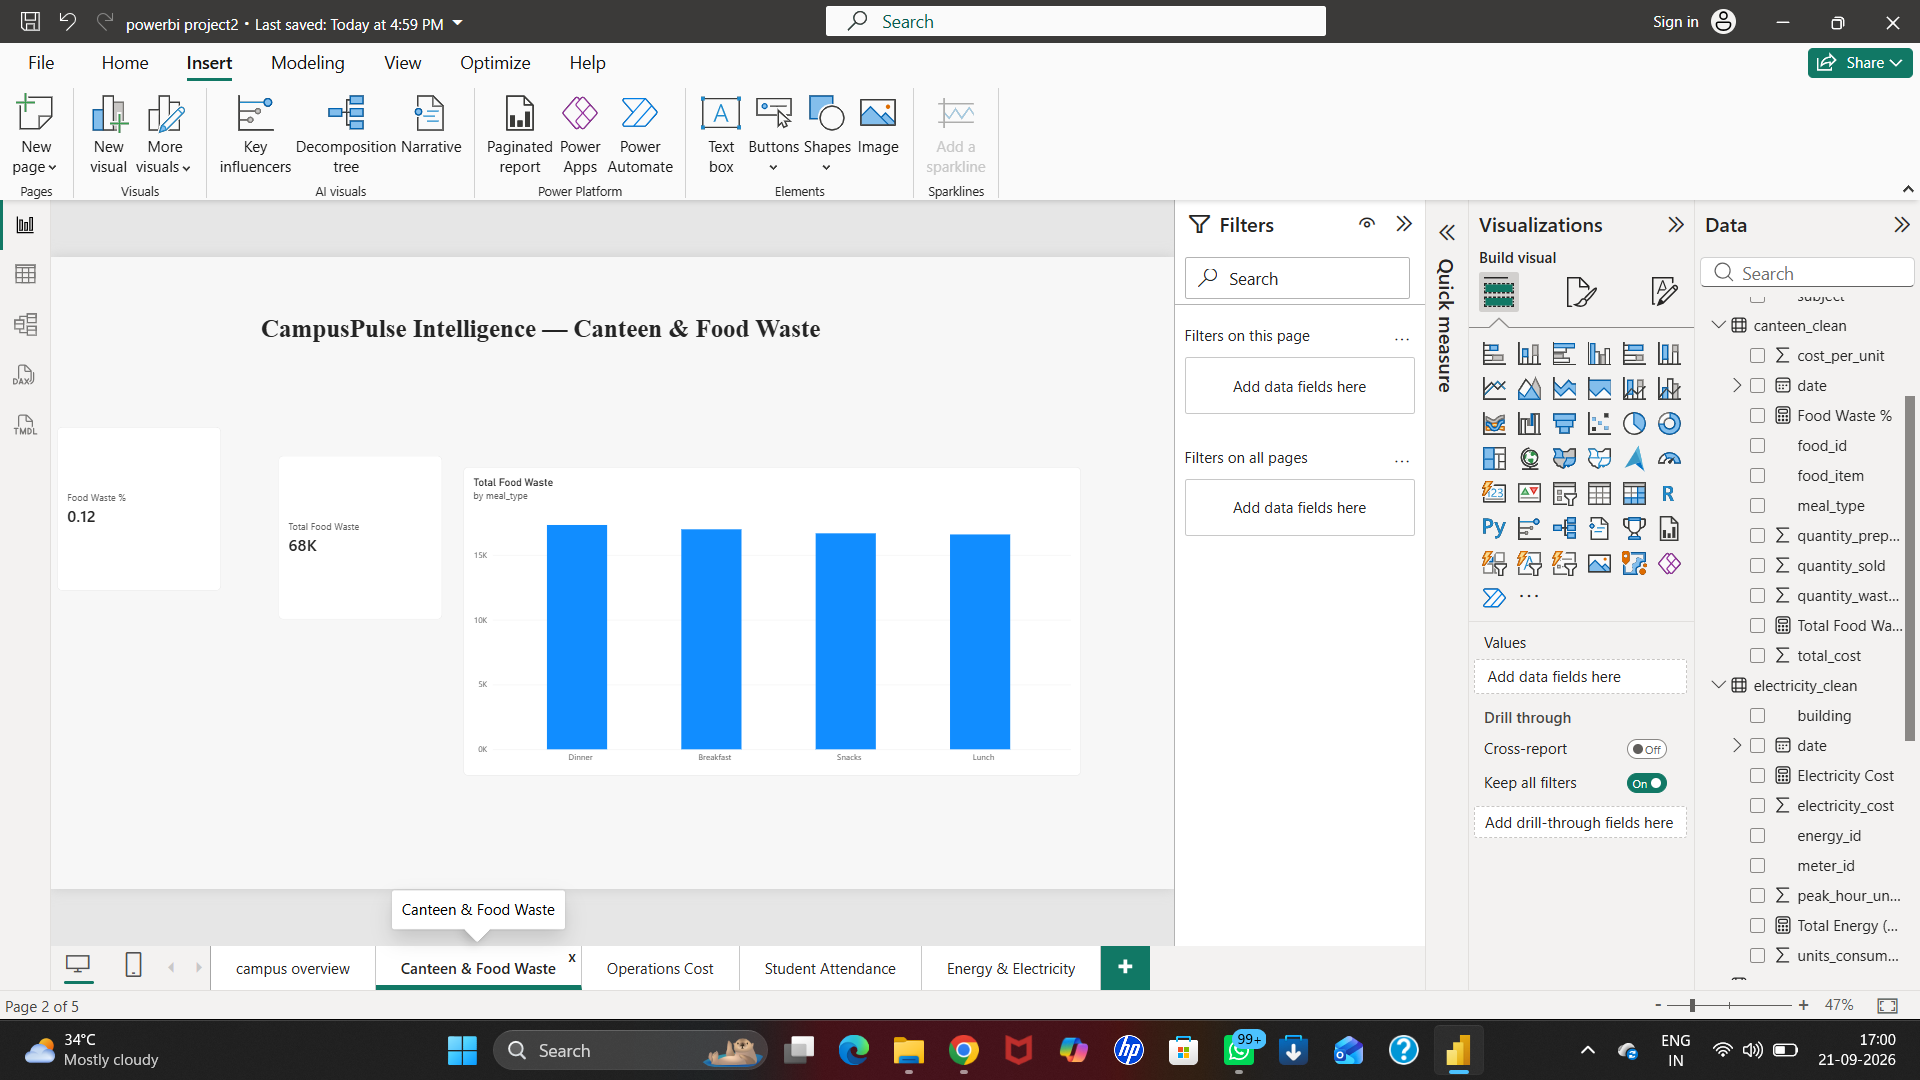

Layout of this report page (visuals, bound fields, positions):
{"tool":"powerbi","page":{"name":"Canteen & Food Waste","canvas":[1920,1080],"ordinal":1},"visuals":[{"type":"cardVisual","fields":{"Data":["canteen_clean.Total Food Waste"]},"box":[389.1,340,280,280],"z":0},{"type":"cardVisual","fields":{"Data":["canteen_clean.Food Waste %"]},"box":[10,290,280,280],"z":1},{"type":"clusteredColumnChart","fields":{"Category":["canteen_clean.meal_type"],"Y":["canteen_clean.Total Food Waste"]},"box":[705.6,359.2,1056.2,528.1],"z":2},{"type":"textbox","box":[359.2,98.4,1259.3,64.1],"z":3}]}

Visuals, with their boxes on the page's 1920x1080 design canvas (x1, y1, x2, y2). These are canvas units, not pixel positions in the 1920x1080 screenshot, which may show the page scaled, cropped or inside an application window:
cardVisual - canteen_clean.Total Food Waste: 389/340/669/620
cardVisual - canteen_clean.Food Waste %: 10/290/290/570
clusteredColumnChart - canteen_clean.meal_type x canteen_clean.Total Food Waste: 706/359/1762/887
textbox: 359/98/1618/162
